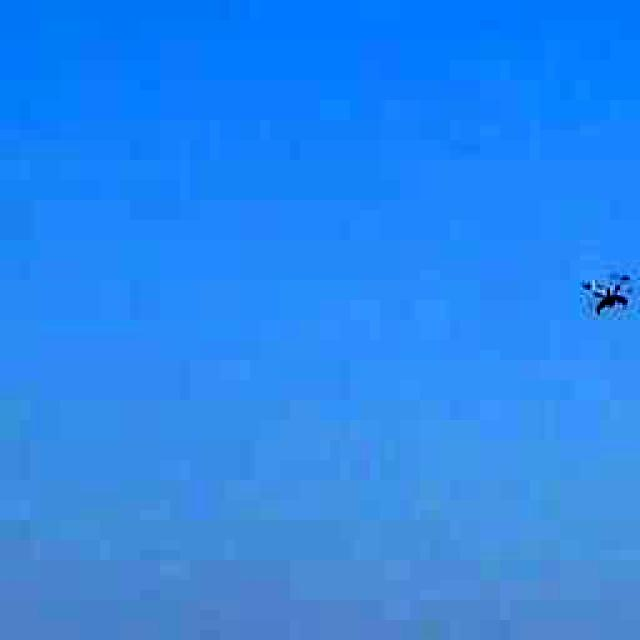bird: (568, 259, 640, 321)
